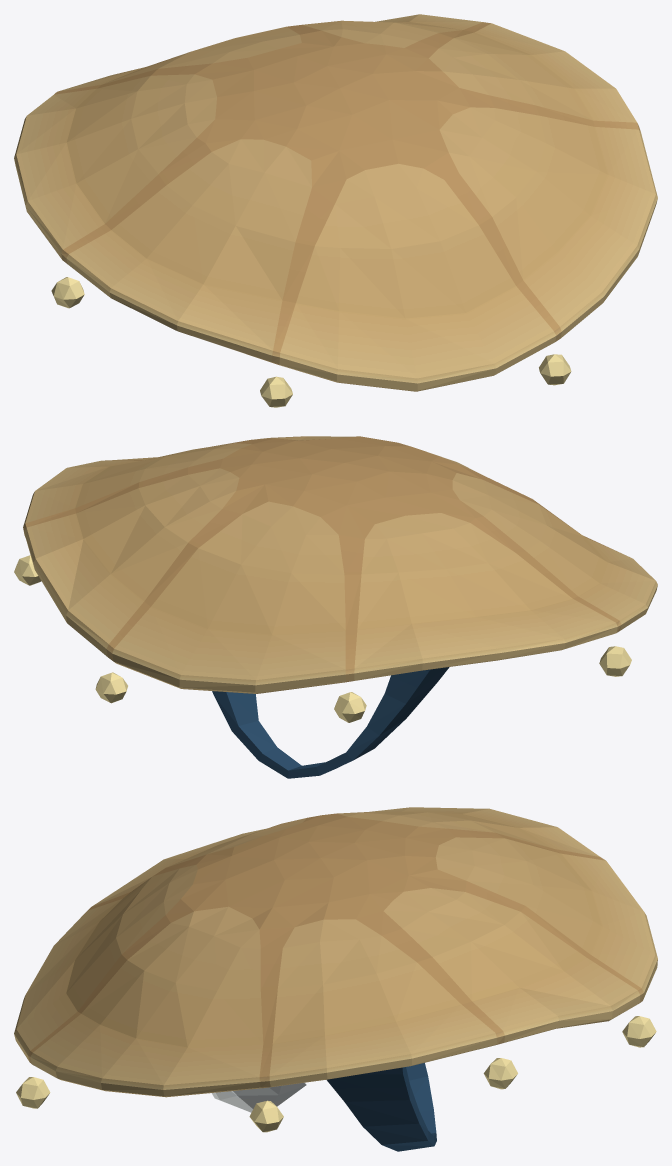
File: CharSkyKid_Hair_AP03Umbrella_01.glb
3 renders of one model, top to bottom at view 1: azimuth 30°, elevation 25°; view 2: azimuth 150°, elevation 25°; view 3: azimuth 270°, elevation 25°, orthographic. The views are drawn at different scales.
Visible parts, largest first — view 1: CharSkyKid_Hair_AP03Umbrella_01; view 2: CharSkyKid_Hair_AP03Umbrella_01; view 3: CharSkyKid_Hair_AP03Umbrella_01.
Boxes of the visible parts, x1,y1,x2,y2 form: CharSkyKid_Hair_AP03Umbrella_01: (14, 14, 657, 407); CharSkyKid_Hair_AP03Umbrella_01: (14, 436, 657, 778); CharSkyKid_Hair_AP03Umbrella_01: (14, 807, 657, 1151).
Size of the model in its own units: 6.32 by 3.04 by 6.09.
Materials: 1 (1 with a texture image).
